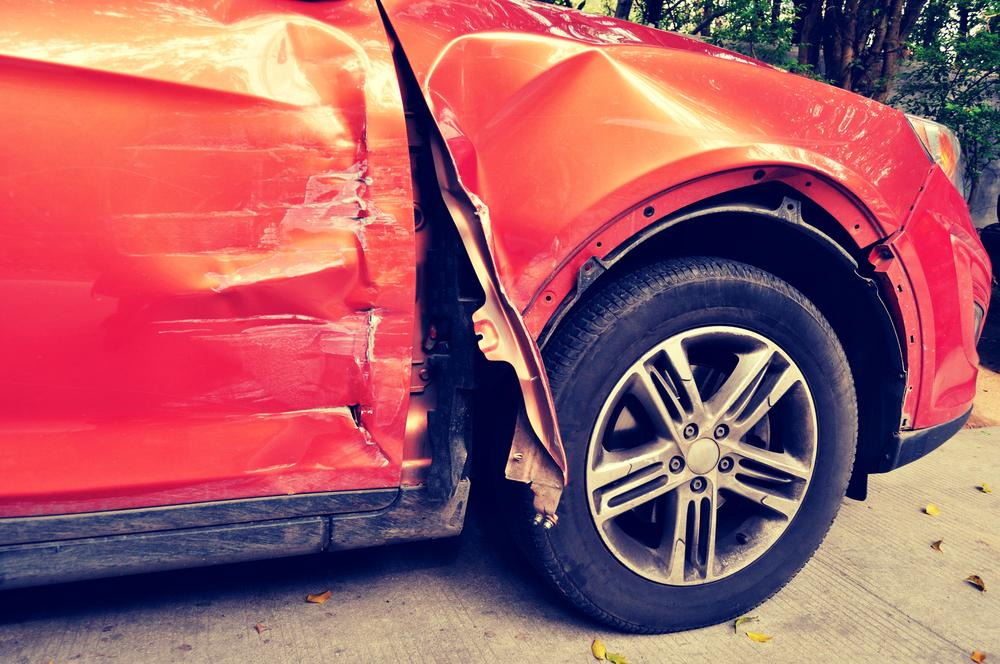crack: (345, 402, 361, 435)
dent: (117, 16, 412, 484), (422, 36, 660, 297)
